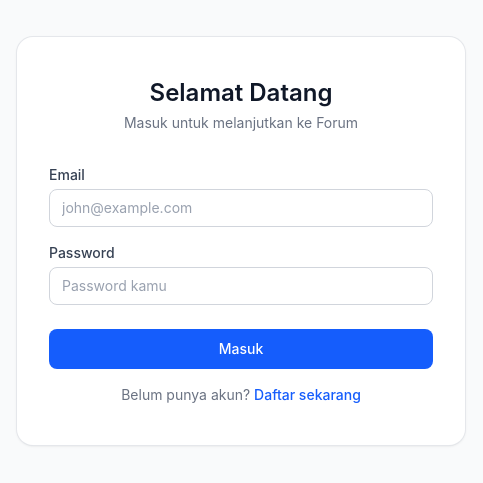
Scenario: Login Page — E2E › Halaman login ditampilkan dengan benar › harus menampilkan error validasi jika form disubmit kosong
Click the submit button at (241,349), box [49,329,433,369]
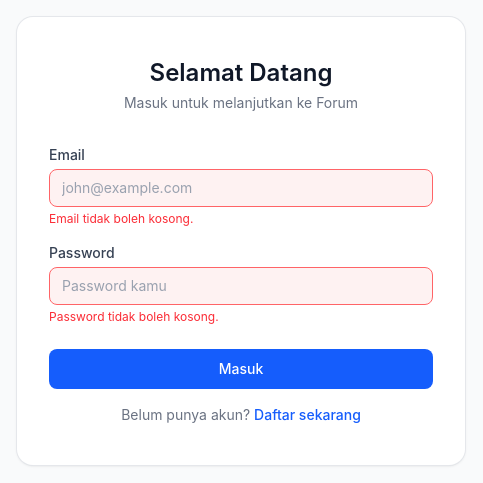
Result: the text "Email tidak boleh kosong." is shown at [49,211,193,226]
Result: the text "Password tidak boleh kosong." is shown at [49,309,219,324]
